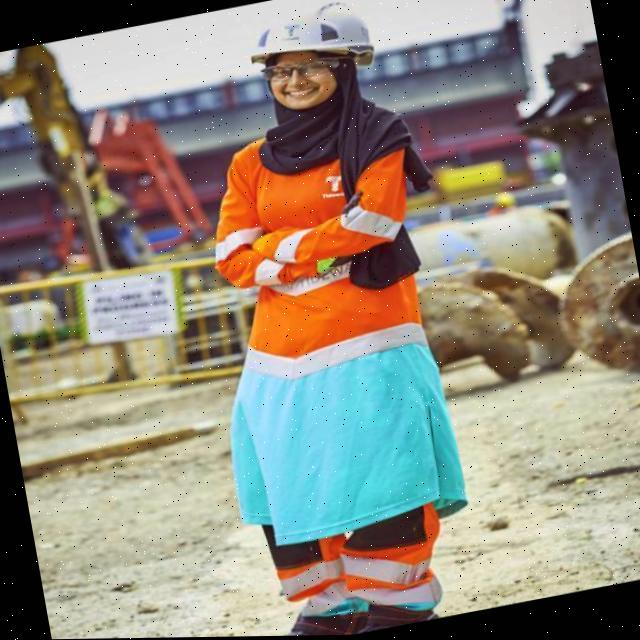goggles_on: (254, 52, 363, 86)
